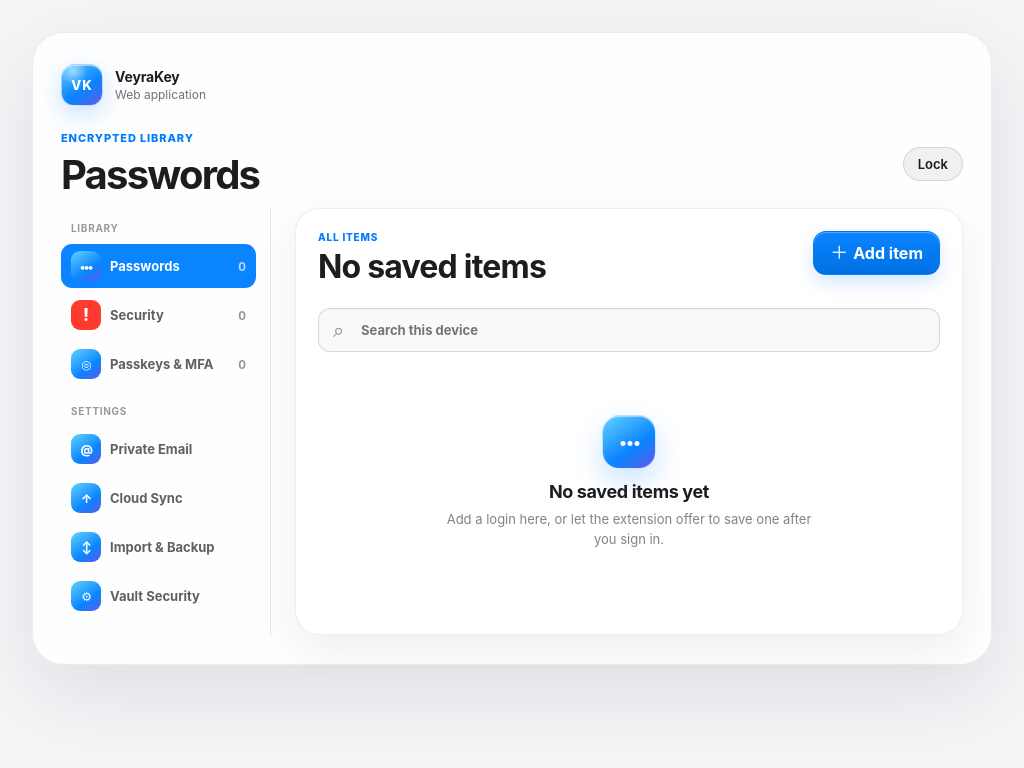
Test: VaultScreen › presents concise security recommendations without inventing password age
Check: the heading "Passwords" is shown, box left=61, top=153, right=259, bottom=196
Click the button "! Security 0": (158, 315) left=61, top=293, right=256, bottom=337
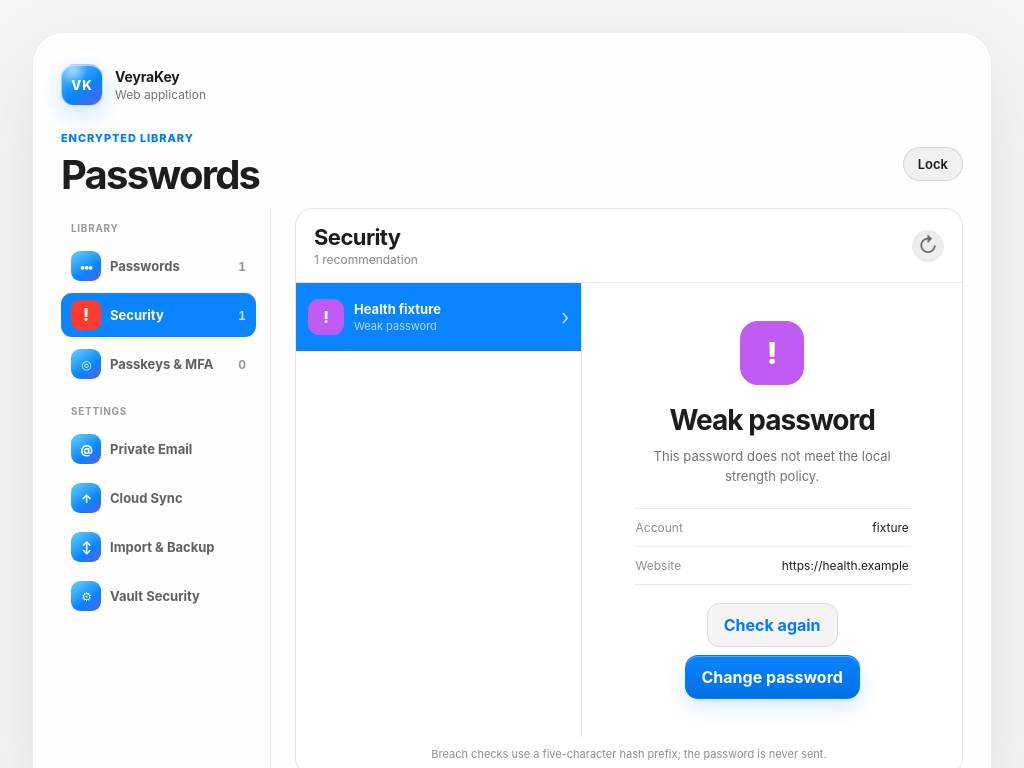
Check: the heading "Security" is shown, box left=314, top=224, right=401, bottom=250
Click the button named "Refresh security recommendations": (928, 246) left=912, top=230, right=944, bottom=262
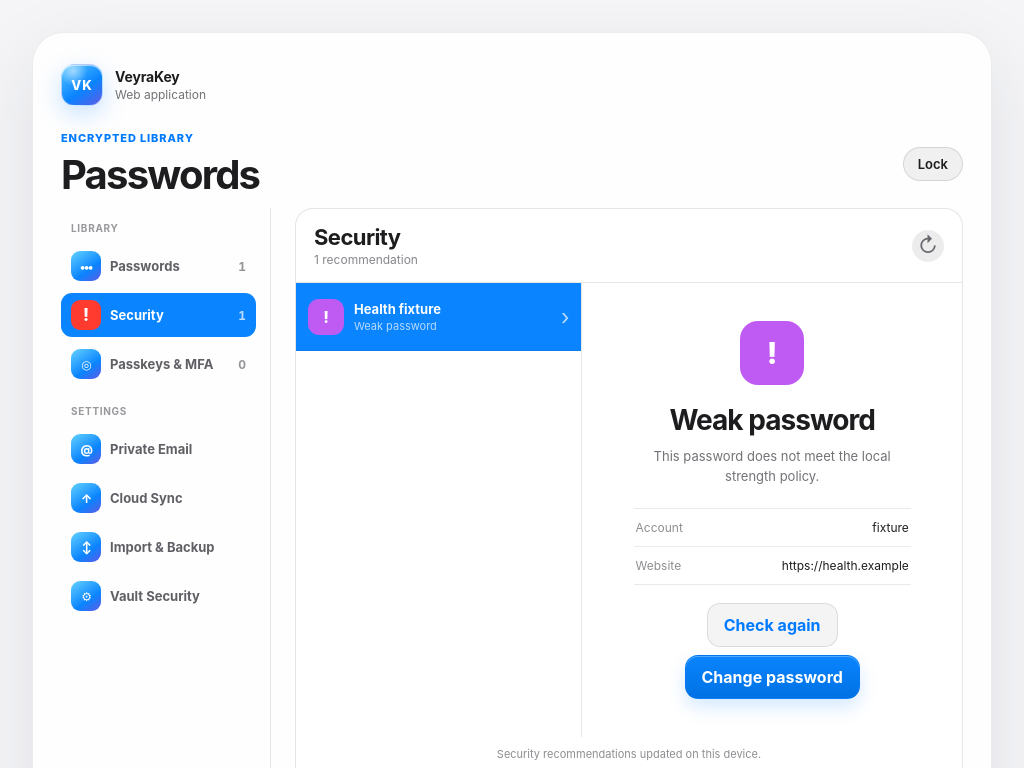
Check: the message shows "Security recommendations updated on this device", box left=497, top=747, right=761, bottom=761
